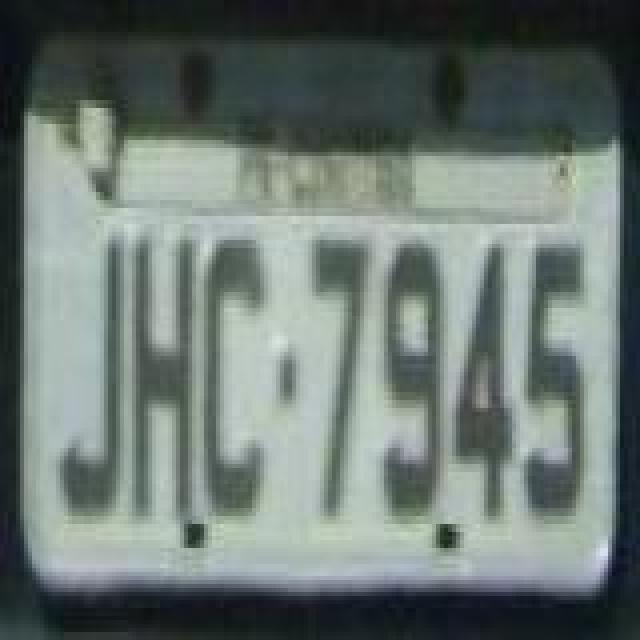4: (456, 240, 520, 528)
5: (518, 240, 586, 528)
7: (308, 228, 372, 524)
9: (380, 236, 444, 532)
C: (198, 228, 266, 524)
H: (126, 228, 194, 524)
J: (56, 228, 128, 524)
